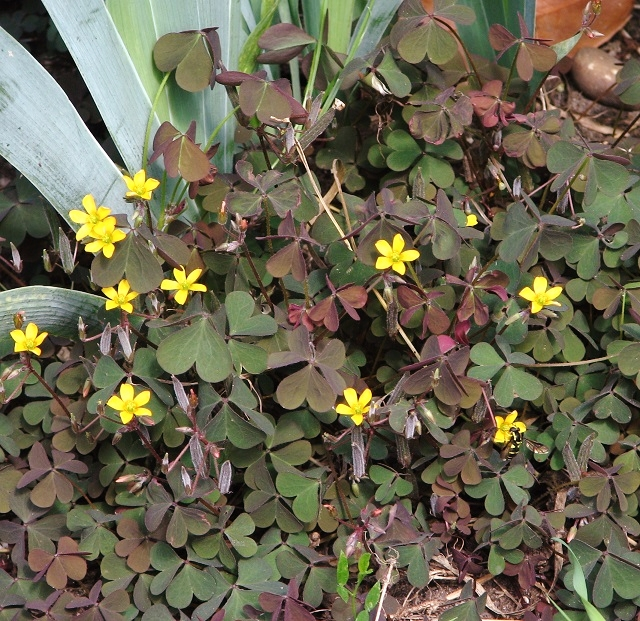oxalis: (50, 73, 640, 606)
